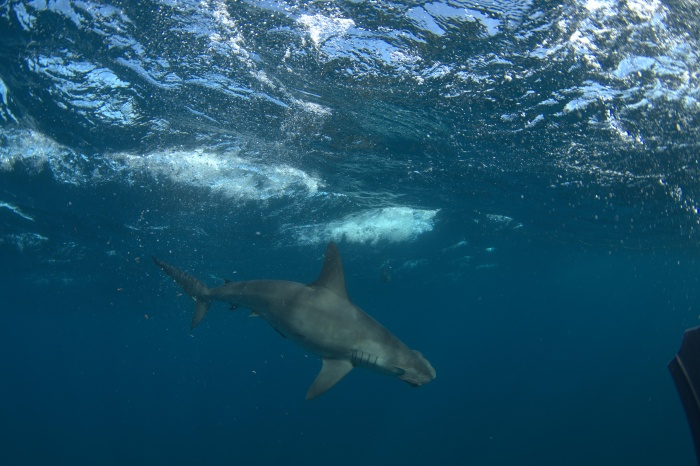Hammer: (116, 224, 450, 423)
